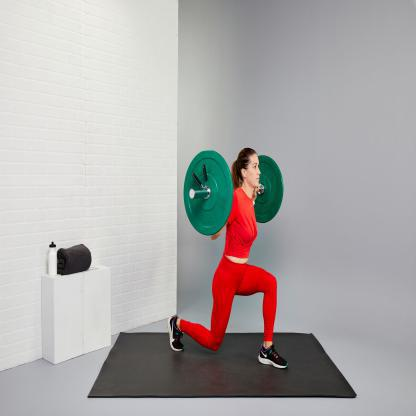Barbell: (178, 145, 238, 237)
